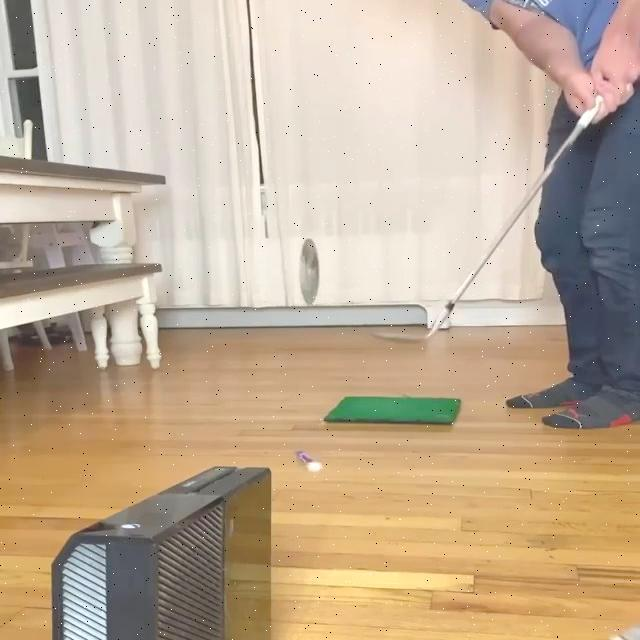ClubHead: (368, 330, 428, 343)
